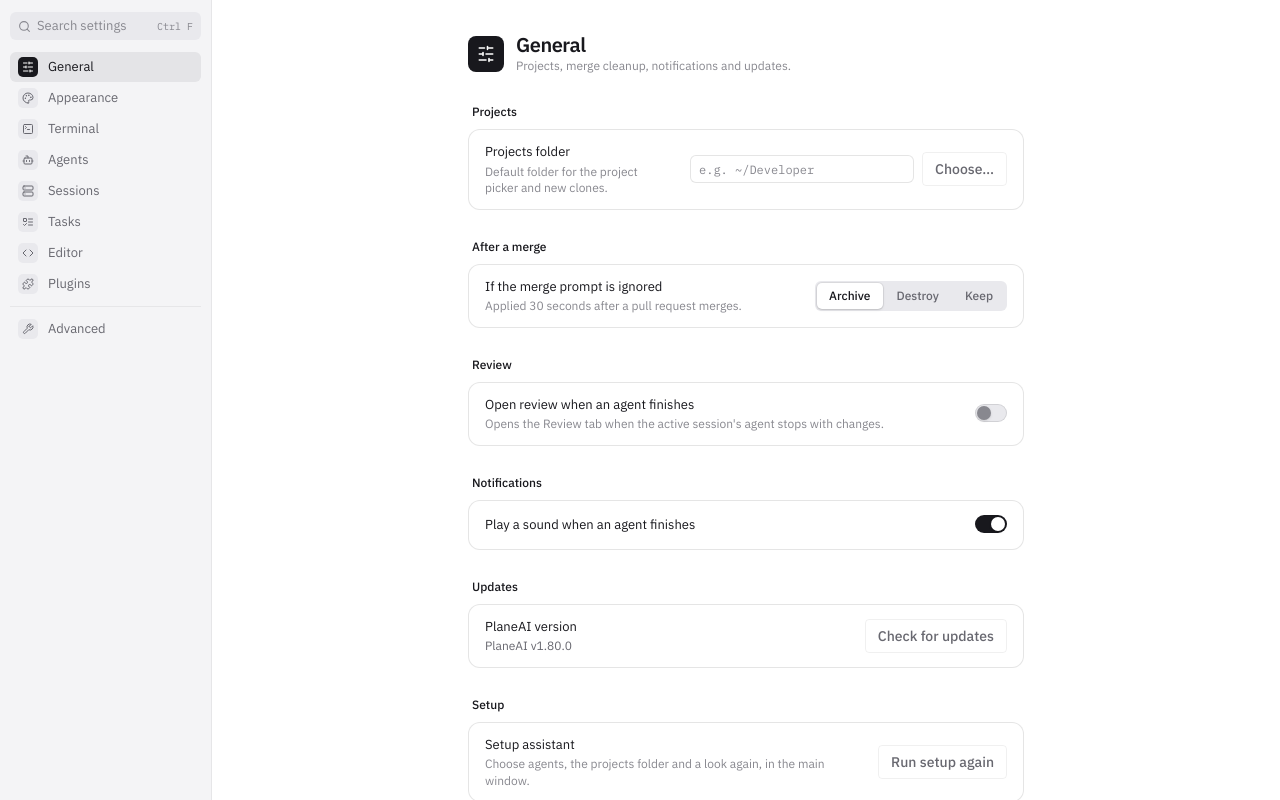
search › shows matching settings with breadcrumbs and jumps to one
Type "tmux" into the field named "Search settings" at (94, 26), box [37,16,151,36]
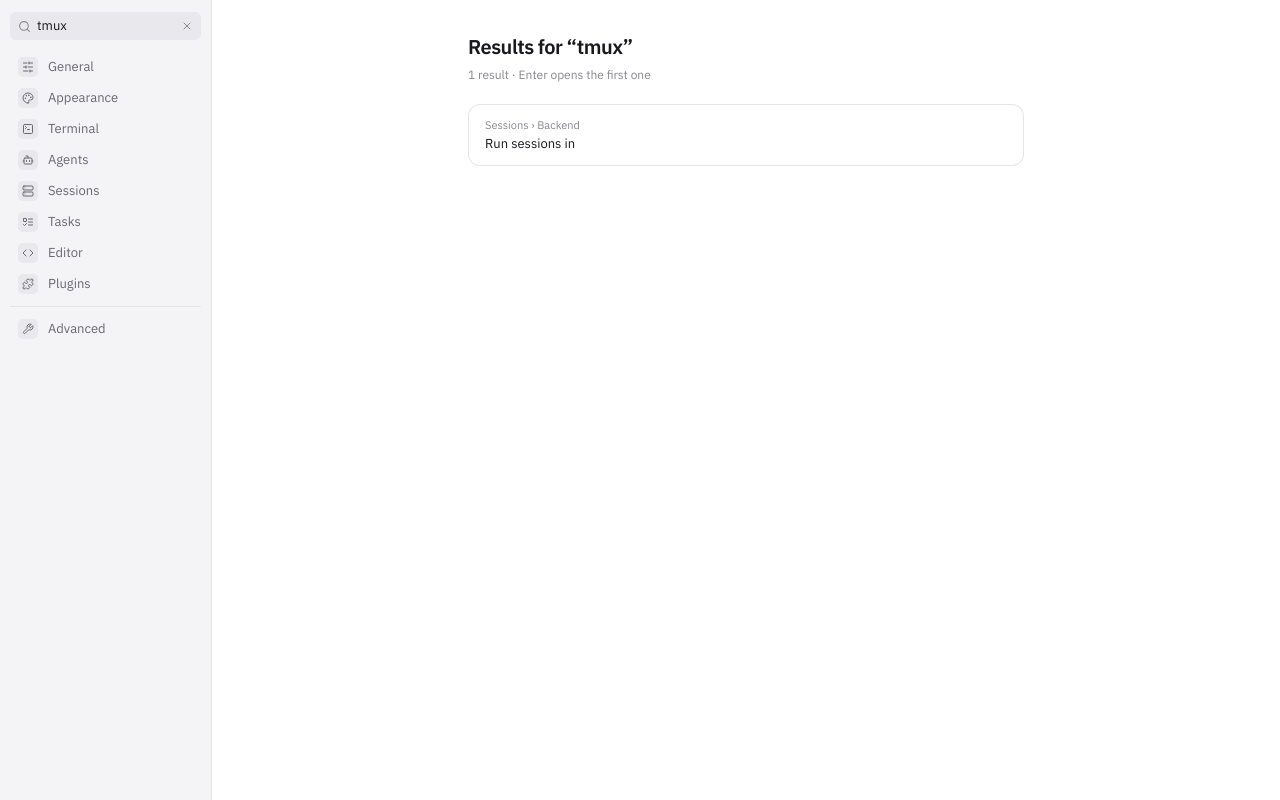
Expected: the heading "Results for “tmux”" is shown, [468,33,633,60]
Expected: the button "Sessions › Backend Run sessions in" is shown
Click the button "Sessions › Backend Run sessions in" at (532, 125), box [469,105,1023,165]
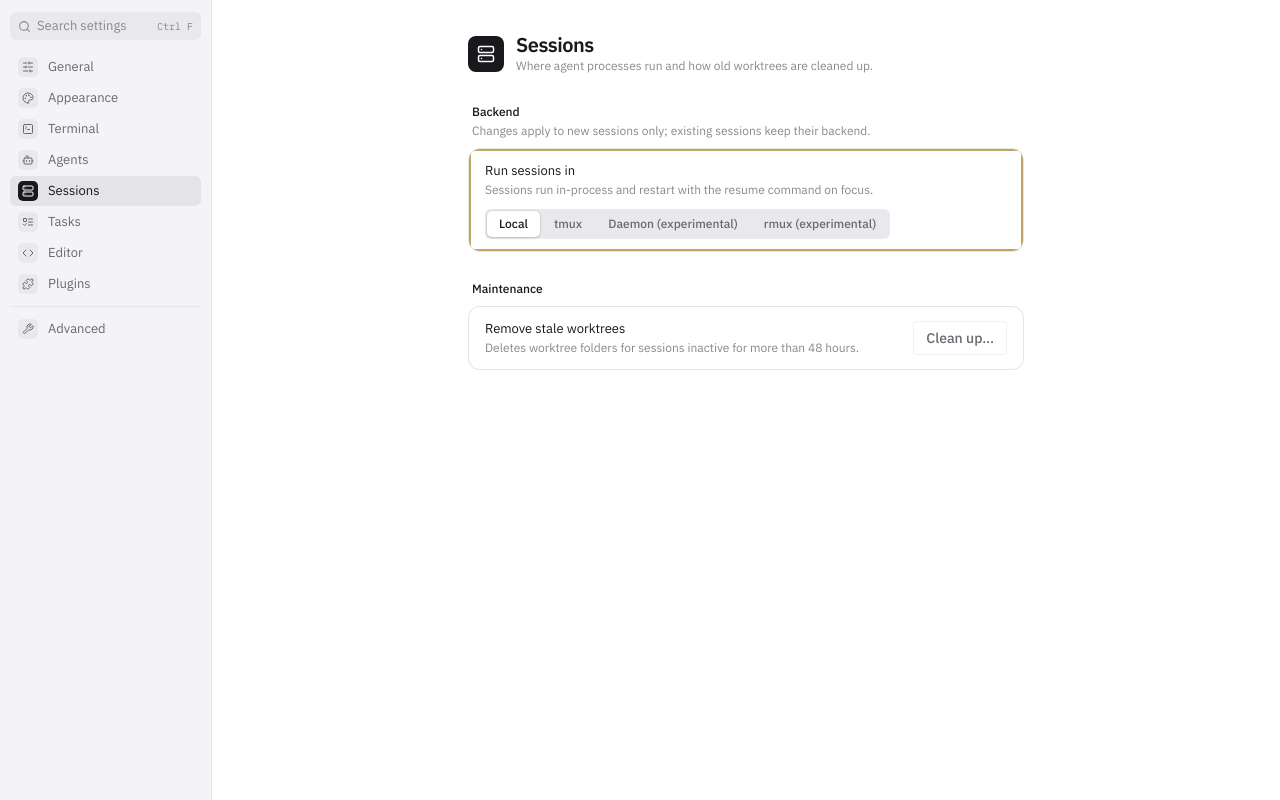
Expected: the heading "Sessions" is shown, [516,31,594,58]
